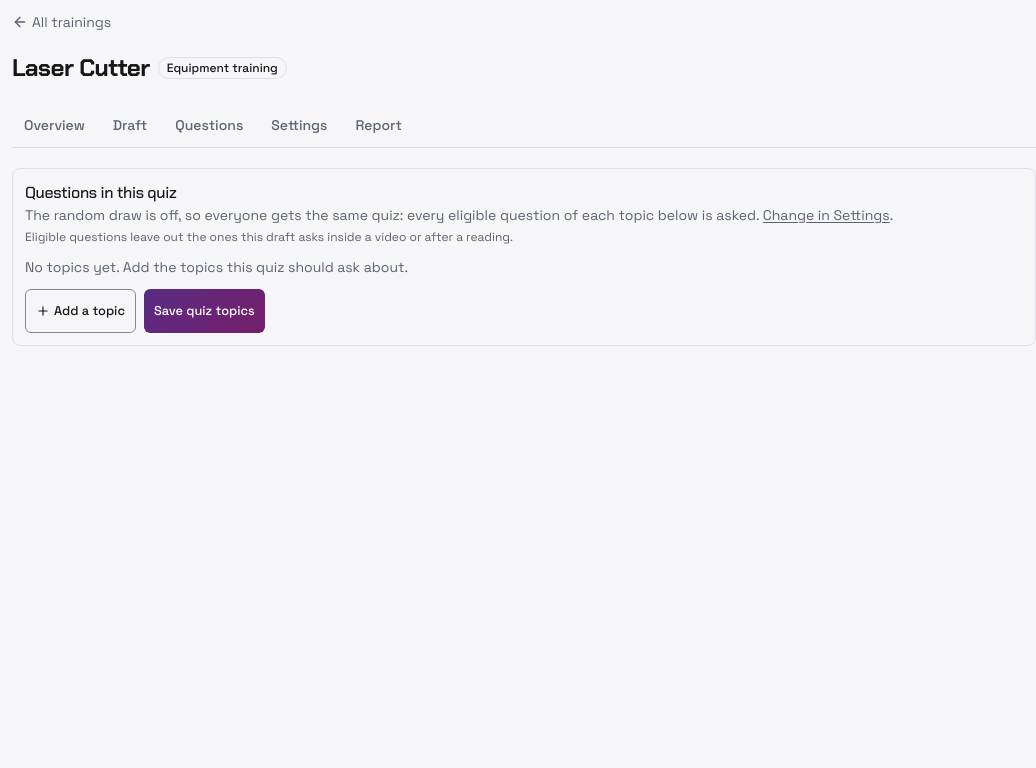
Test: BlueprintEditor › shows each topic’s eligible count as the server reports it
The width and height of the screenshot is (1036, 768).
Check: the heading "Laser Cutter" is shown, box [12,52,150,84]
Click the button "Add a topic" at {"x": 80, "y": 311}, box [25,289,136,333]
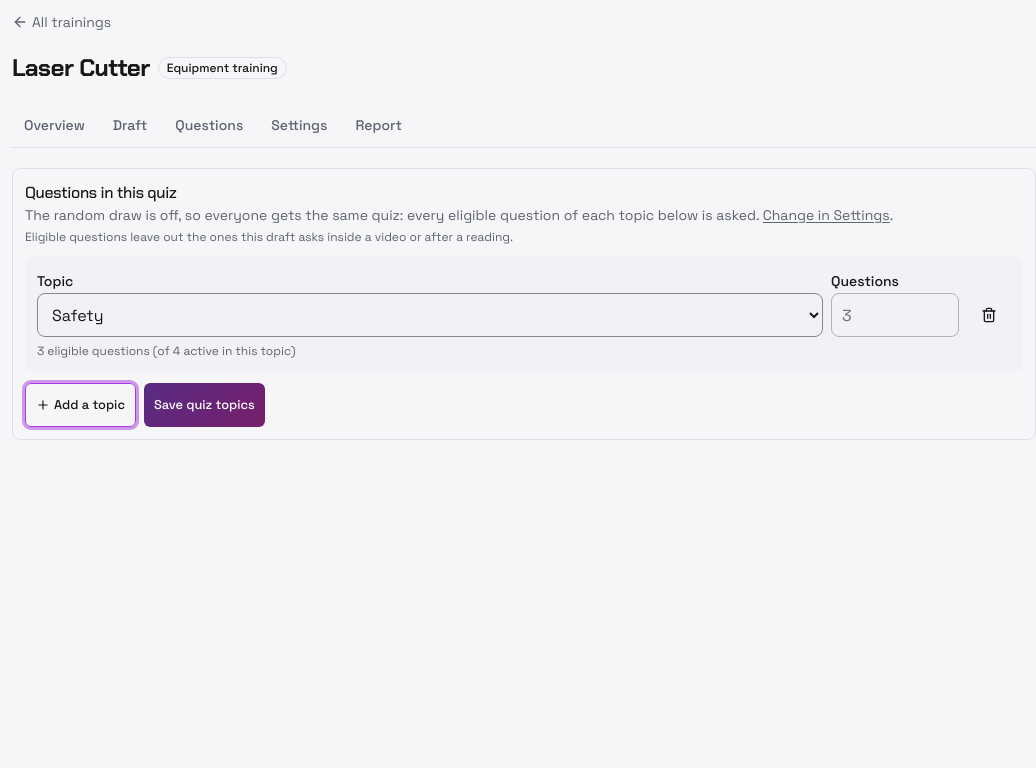
Check: the text with test id "eligible-7" reads "3 eligible questions (of 4 active in this topic)", box [37,343,296,359]
Click the button "Add a topic" at {"x": 80, "y": 405}, box [25,383,136,427]
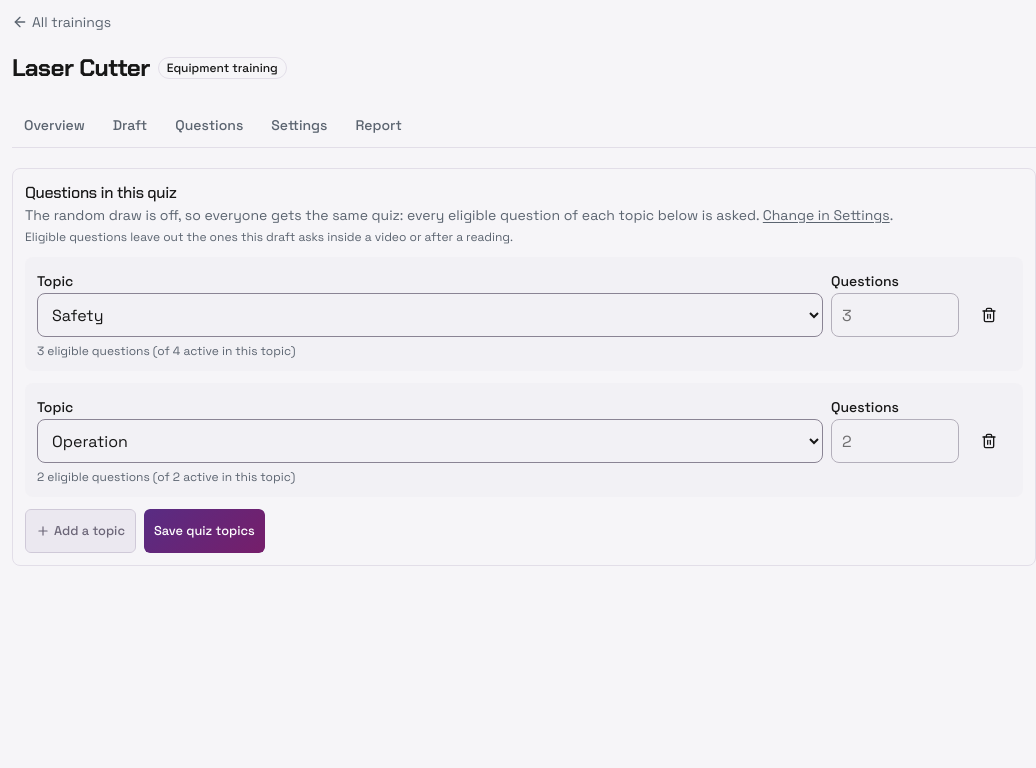
Check: the text with test id "eligible-8" shows "2 eligible questions", box [37,469,295,485]
